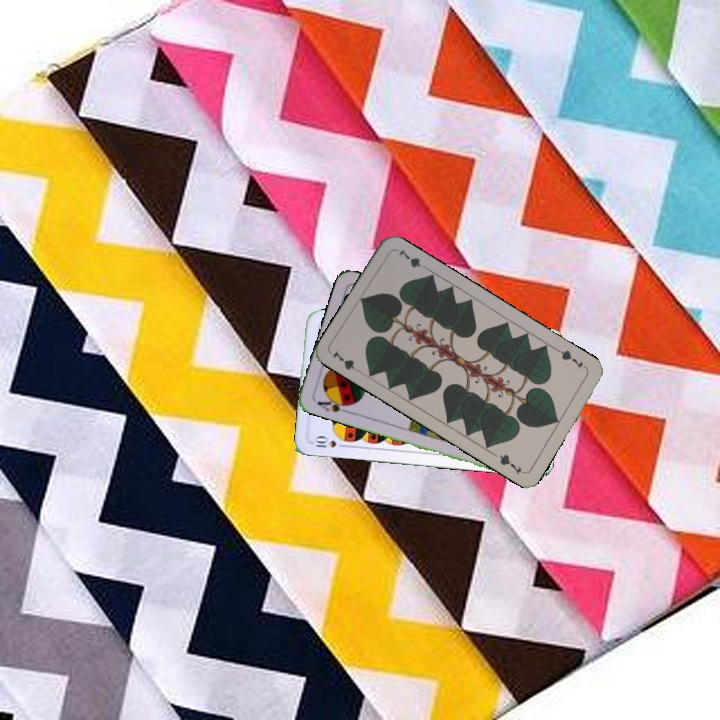G7: (328, 346, 365, 376), (553, 345, 589, 371)
S10: (311, 433, 349, 450)
SA: (313, 393, 353, 416)
